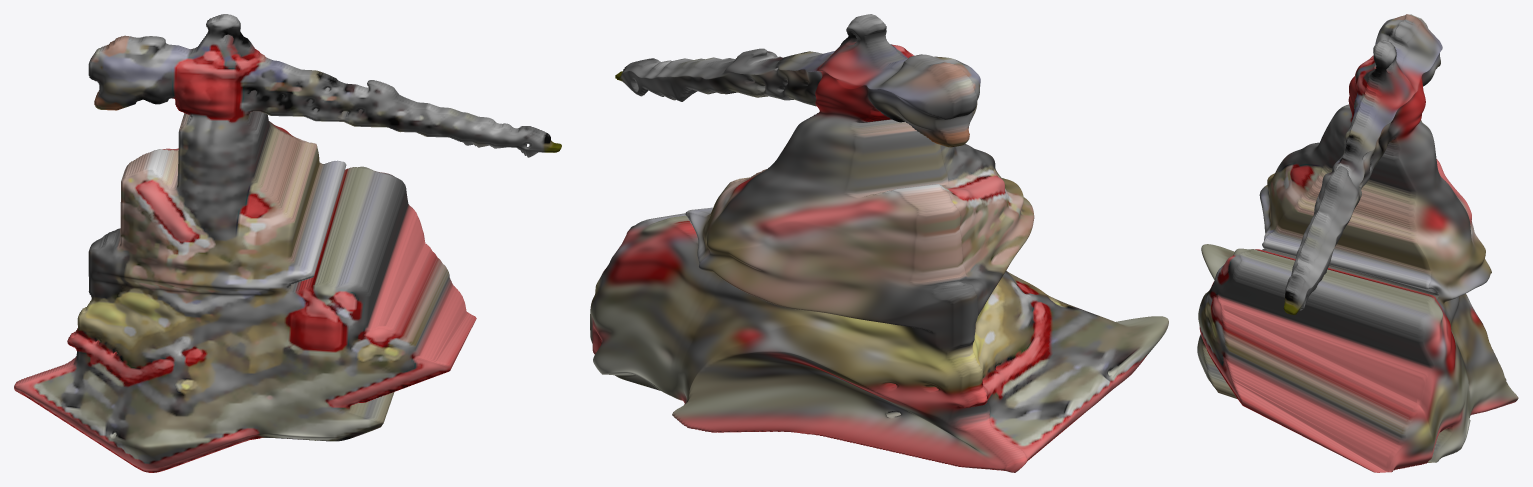
File: soviet_service_depot.glb
3 views of the same model, side by side, from view 1: azimuth 30°, elevation 25°; view 2: azimuth 150°, elevation 25°; view 3: azimuth 270°, elevation 25° (orthographic). The views are drawn at different scales.
Visible parts, largest first — view 1: soviet_service_depot; view 2: soviet_service_depot; view 3: soviet_service_depot.
Boxes of the visible parts, x1,y1,x2,y2 form: soviet_service_depot: (14,14,561,472); soviet_service_depot: (590,14,1168,472); soviet_service_depot: (1197,14,1518,472).
Size of the model in its own units: 2.12 by 1.55 by 1.4.
